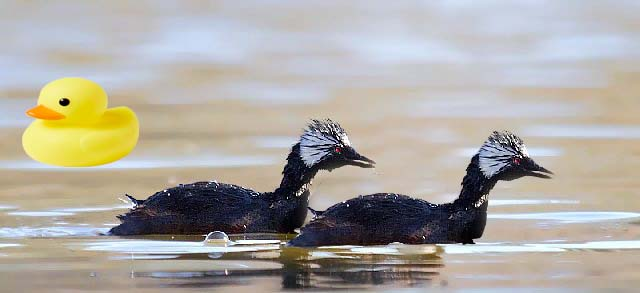copymove: (301, 130, 553, 253)
removal: (301, 137, 497, 251)
spliced: (15, 76, 143, 170)
